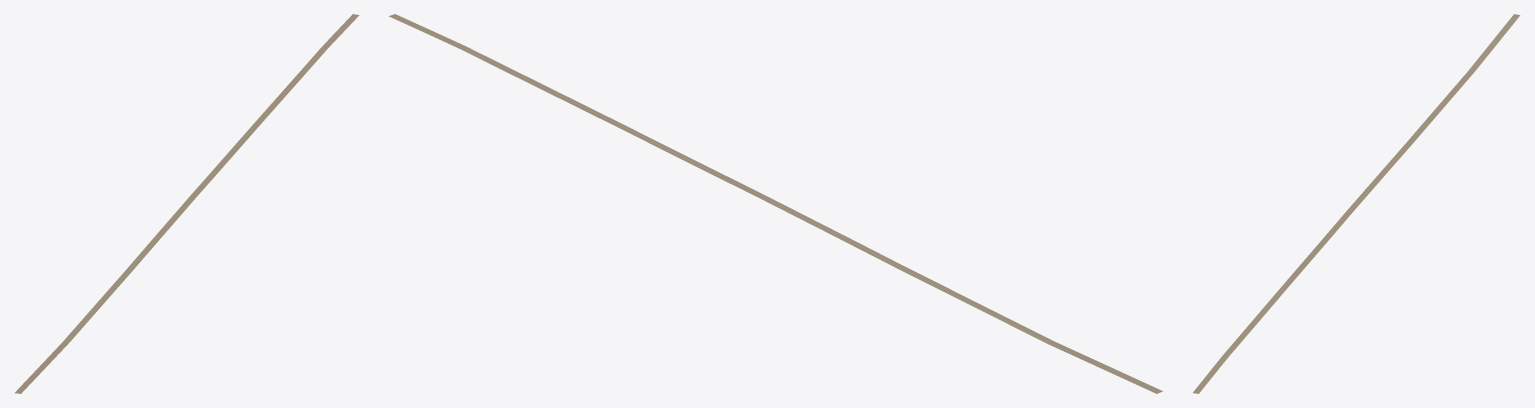
File: farm_2_11_track.glb
3 renders of one model, left to right at view 1: azimuth 90°, elevation 25°; view 2: azimuth 150°, elevation 25°; view 3: azimuth 270°, elevation 25°, orthographic. The views are drawn at different scales.
Visible parts, largest first — view 1: geometry_0; view 2: geometry_0; view 3: geometry_0.
Part boxes in pixels (<box>): geometry_0: <box>14,14,359,393</box>; geometry_0: <box>389,14,1162,393</box>; geometry_0: <box>1193,14,1520,393</box>.
Size of the model in its own units: 422 by 5.08 by 158.
